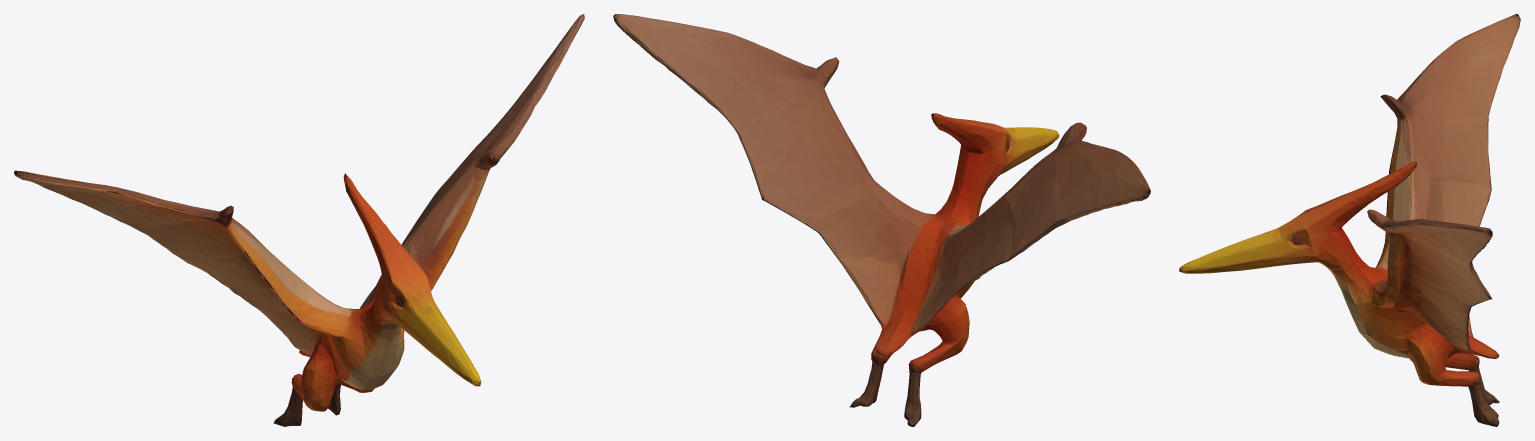
Rendered from pteranodon.glb.
3 renders of one model, left to right at view 1: azimuth 30°, elevation 25°; view 2: azimuth 150°, elevation 25°; view 3: azimuth 270°, elevation 25°, orthographic. The views are drawn at different scales.
Parts seen in each view (by area): view 1: geometry_0; view 2: geometry_0; view 3: geometry_0.
Boxes of the visible parts, box(x1,y1,x2,y2) form: geometry_0: box(14, 14, 584, 426); geometry_0: box(613, 14, 1150, 426); geometry_0: box(1179, 14, 1520, 426).
Size of the model in its own units: 0.9963 by 0.5805 by 0.5843.
1 material, 1 textured.
